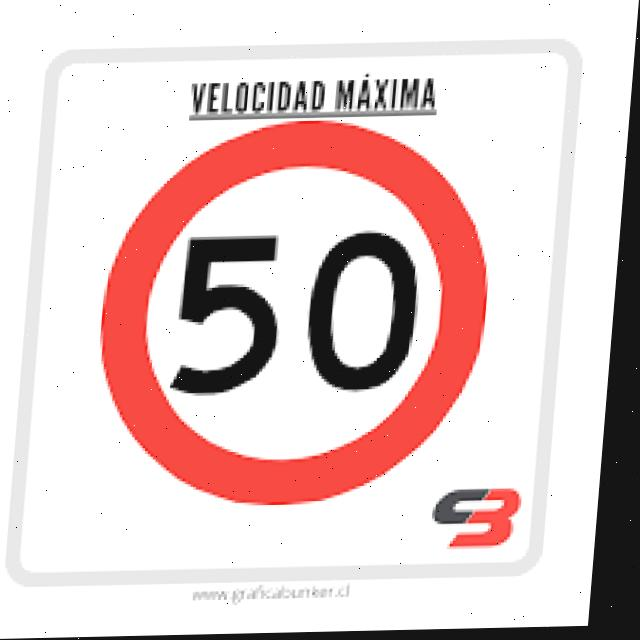Speed limit 50: (90, 114, 508, 514)
